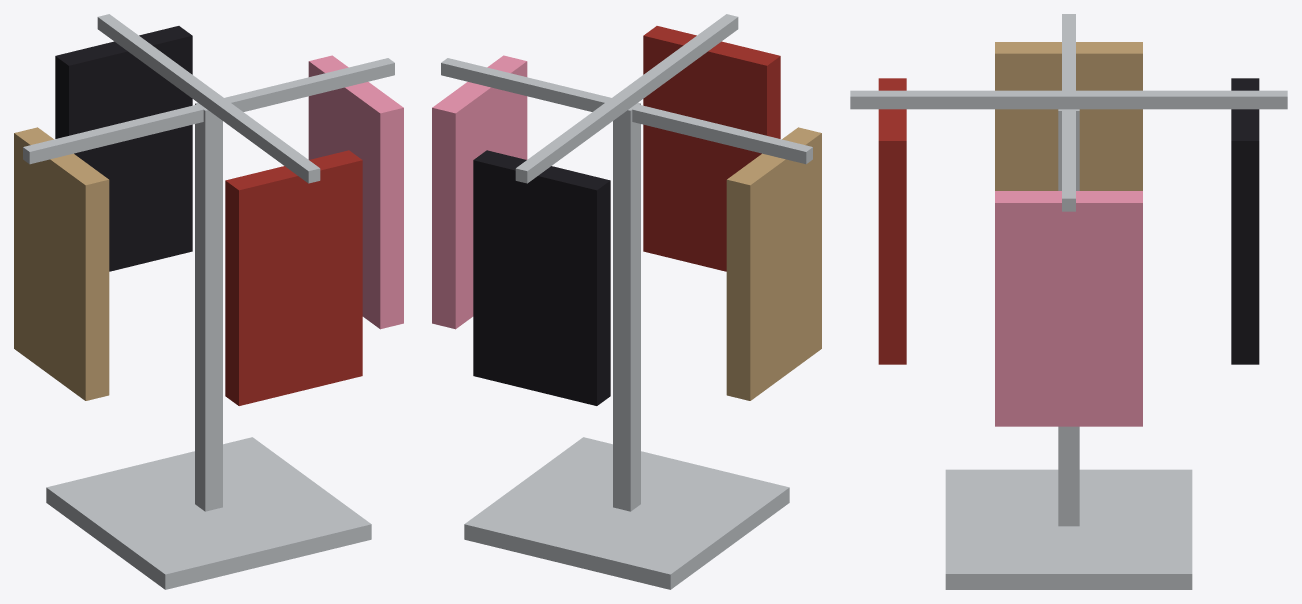
The model's file is rack_1.glb.
The picture shows the model from 3 angles, left to right: view 1: azimuth 30°, elevation 25°; view 2: azimuth 150°, elevation 25°; view 3: azimuth 270°, elevation 25°; orthographic projection. The views are drawn at different scales.
Visible parts, largest first — view 1: Box8, Box1, Box5, Box7, Box6, Box2, Box3, Box4; view 2: Box7, Box1, Box5, Box8, Box6, Box2, Box3, Box4; view 3: Box6, Box1, Box5, Box4, Box7, Box8, Box2, Box3.
Boxes of the visible parts, box(x1,y1,x2,y2) form: Box8: box(225, 150, 362, 405); Box1: box(46, 437, 371, 589); Box5: box(14, 127, 109, 400); Box7: box(55, 26, 192, 271); Box6: box(308, 55, 403, 329); Box2: box(195, 102, 222, 511); Box3: box(23, 58, 394, 164); Box4: box(97, 14, 320, 183); Box7: box(473, 150, 610, 405); Box1: box(464, 437, 789, 589); Box5: box(726, 127, 821, 400); Box8: box(643, 26, 780, 271); Box6: box(432, 55, 527, 329); Box2: box(613, 102, 640, 511); Box3: box(441, 58, 812, 164); Box4: box(515, 14, 738, 183); Box6: box(995, 191, 1142, 426); Box1: box(945, 469, 1192, 589); Box5: box(995, 42, 1142, 190); Box4: box(850, 90, 1287, 109); Box7: box(1231, 78, 1259, 364); Box8: box(878, 78, 906, 364); Box2: box(1058, 109, 1079, 526); Box3: box(1062, 14, 1075, 211).
Bounding box in the file's own units: 1.24 × 1.39 × 1.24.
